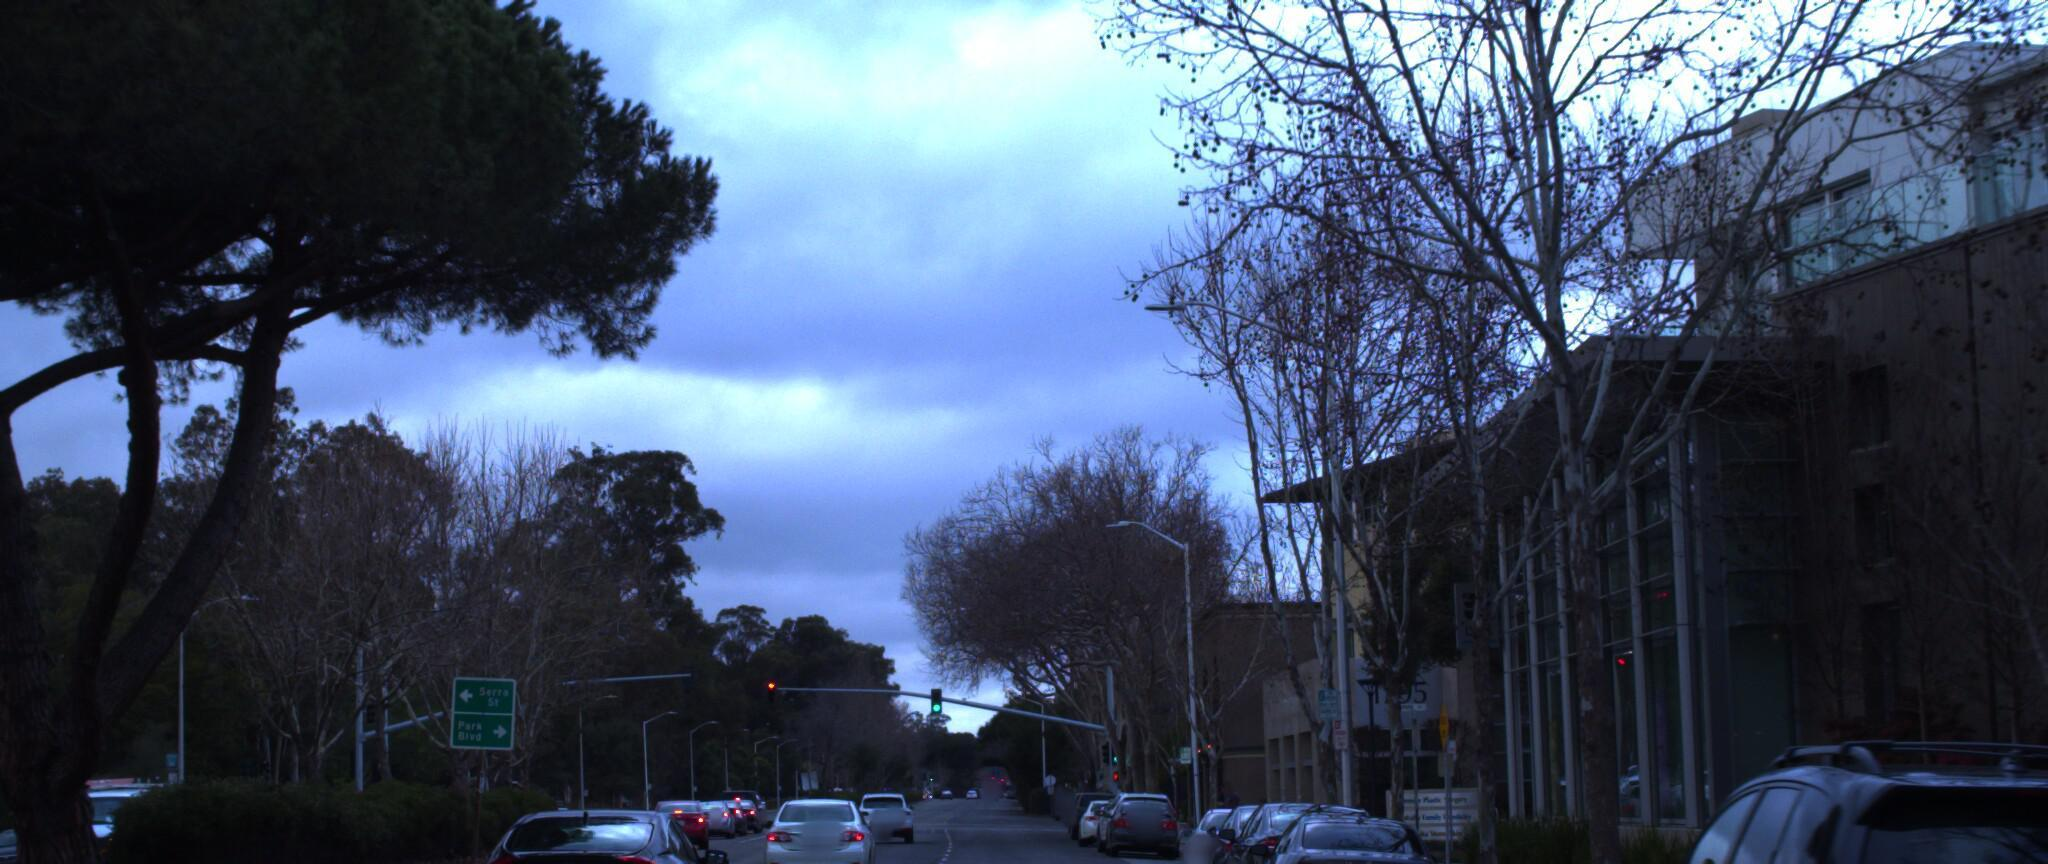car: (1552, 732, 2048, 864), (444, 794, 718, 864), (1240, 807, 1454, 864), (748, 788, 869, 864), (1095, 792, 1177, 857)
